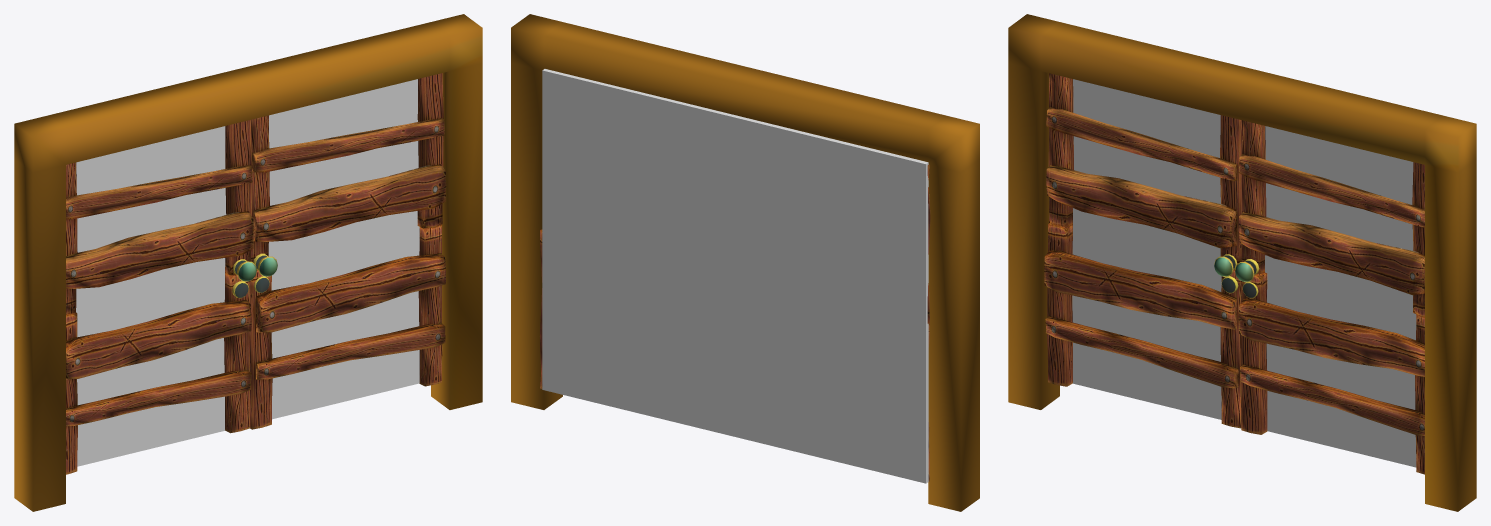
The model's file is GATE 1.fbx.
The picture shows the model from 3 angles, left to right: view 1: azimuth 30°, elevation 25°; view 2: azimuth 150°, elevation 25°; view 3: azimuth 330°, elevation 25°; orthographic projection.
Parts seen in each view (by area): view 1: NurbsPath.016, Plane, Door_Keyhole_low_Door_M_0.001, Door_Keyhole_low_Door_M_0; view 2: Plane, NurbsPath.016; view 3: NurbsPath.016, Plane, Door_Keyhole_low_Door_M_0, Door_Keyhole_low_Door_M_0.001.
Part boxes in pixels (left/top/right/bottom): NurbsPath.016: left=14, top=14, right=482, bottom=511; Plane: left=76, top=79, right=419, bottom=466; Door_Keyhole_low_Door_M_0.001: left=249, top=73, right=446, bottom=429; Door_Keyhole_low_Door_M_0: left=66, top=120, right=256, bottom=474; Plane: left=542, top=69, right=928, bottom=483; NurbsPath.016: left=511, top=14, right=979, bottom=511; NurbsPath.016: left=1008, top=14, right=1476, bottom=511; Plane: left=1072, top=79, right=1416, bottom=467; Door_Keyhole_low_Door_M_0: left=1044, top=73, right=1242, bottom=428; Door_Keyhole_low_Door_M_0.001: left=1235, top=120, right=1424, bottom=474.
Bounding box in the file's own units: 399 × 318 × 37.74.
Materials: 3 (2 with a texture image).
